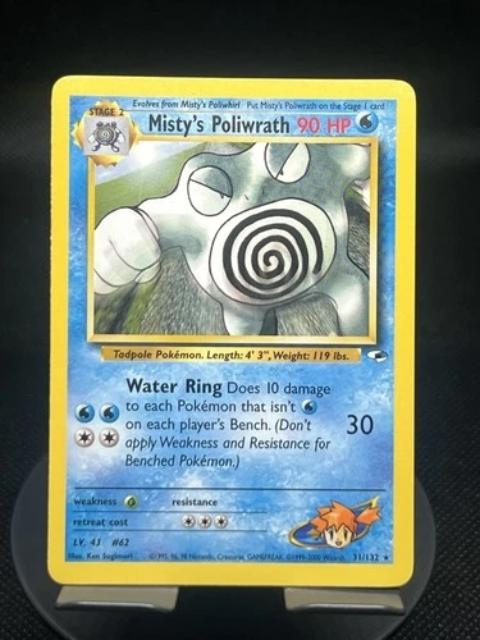Card: (42, 70, 420, 590)
Name: (141, 111, 296, 139)
